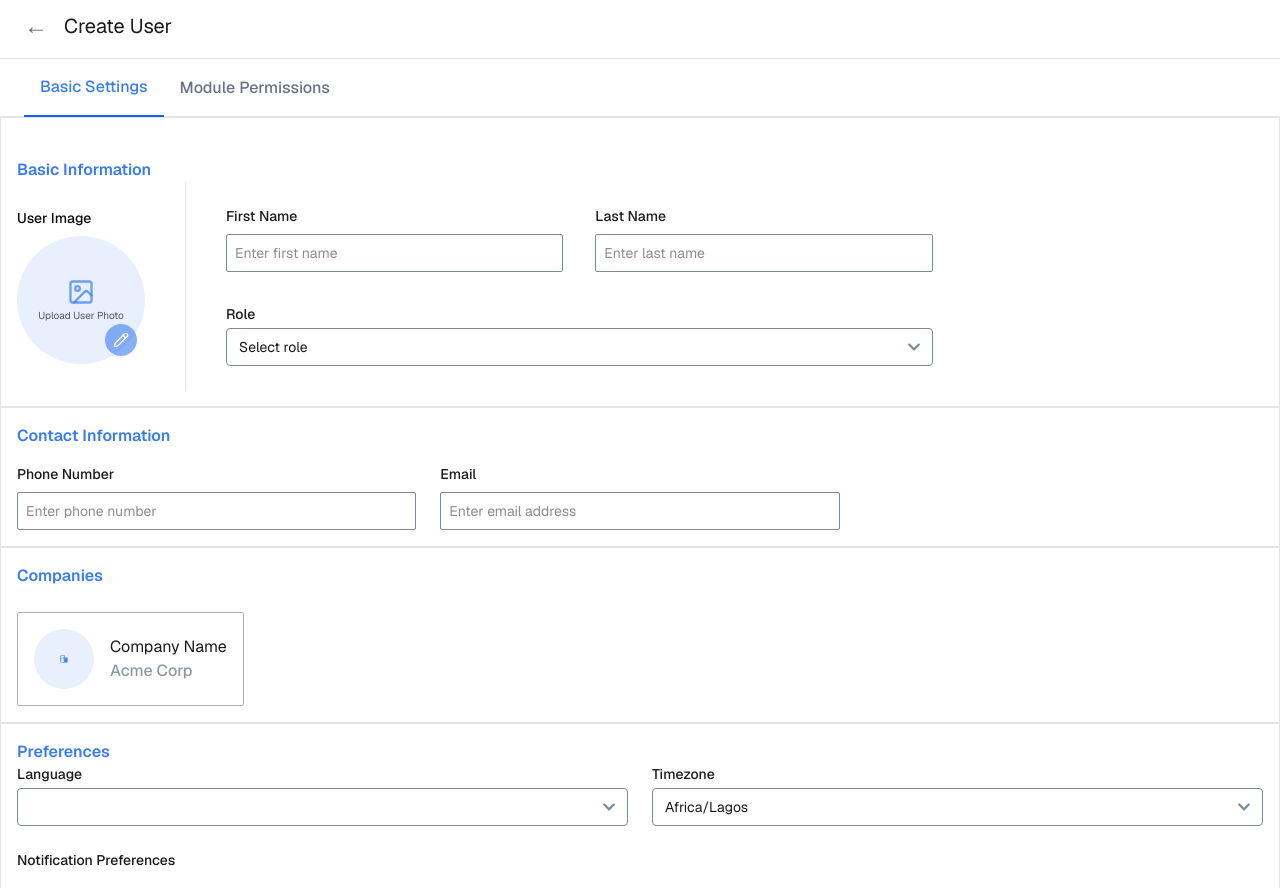
Scenario: NewUser Page Error Handling & StatusModal › shows success StatusModal on successful user creation
In the field with placeholder "Enter first name": (395, 253) 226,234 -> 563,272, type "Jane"
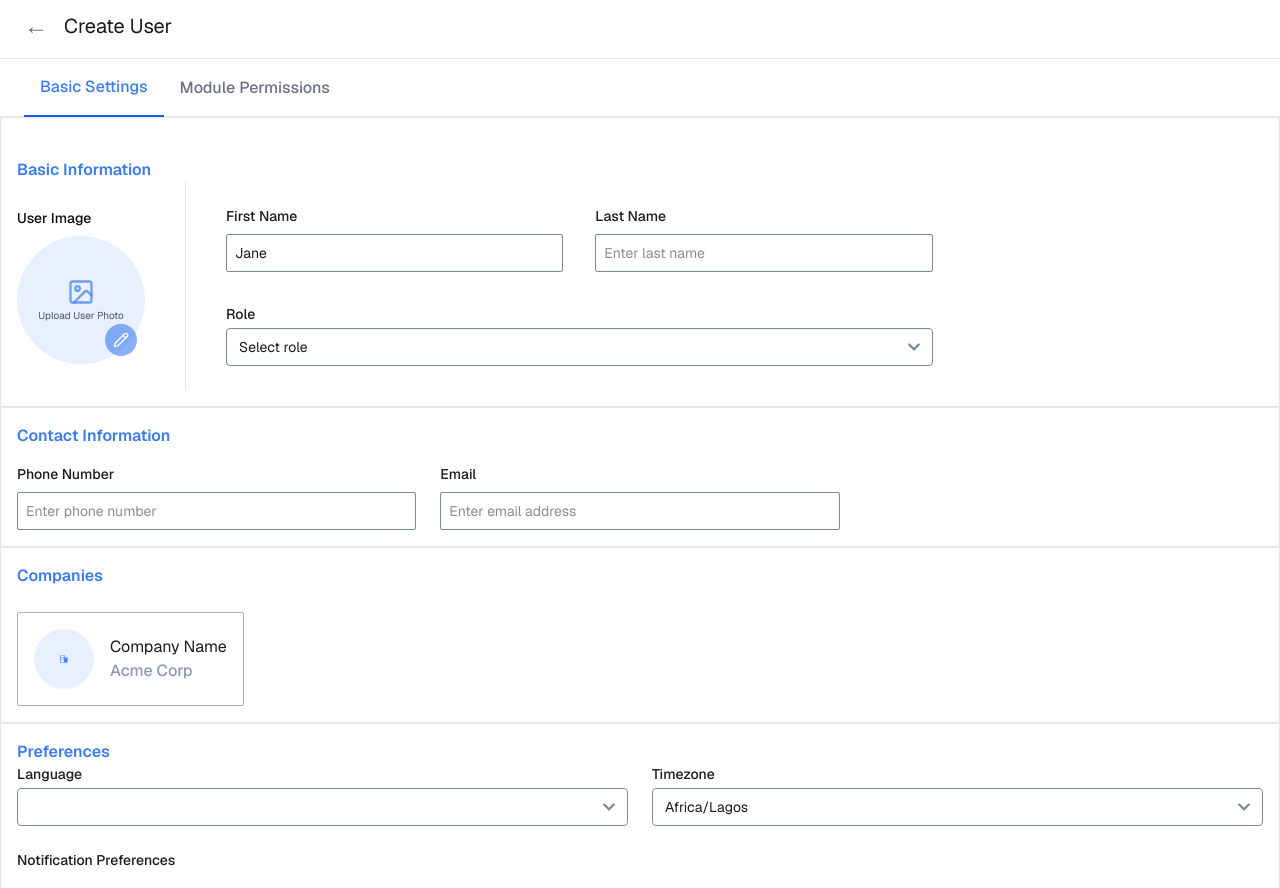
In the field with placeholder "Enter last name": (764, 253) 595,234 -> 933,272, type "Smith"
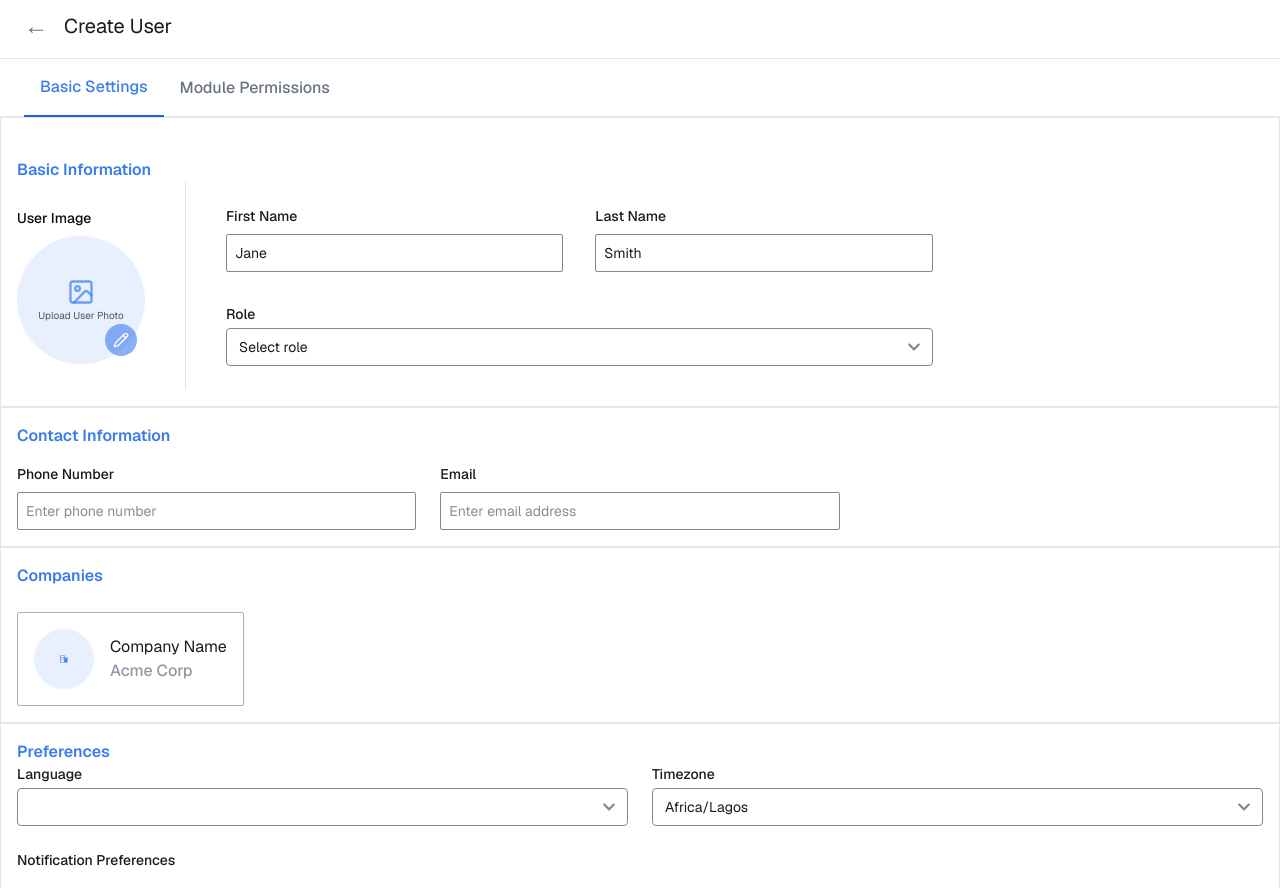
In the field with placeholder "Enter email address": (640, 511) 440,492 -> 840,530, type "jane.smith@example.com"
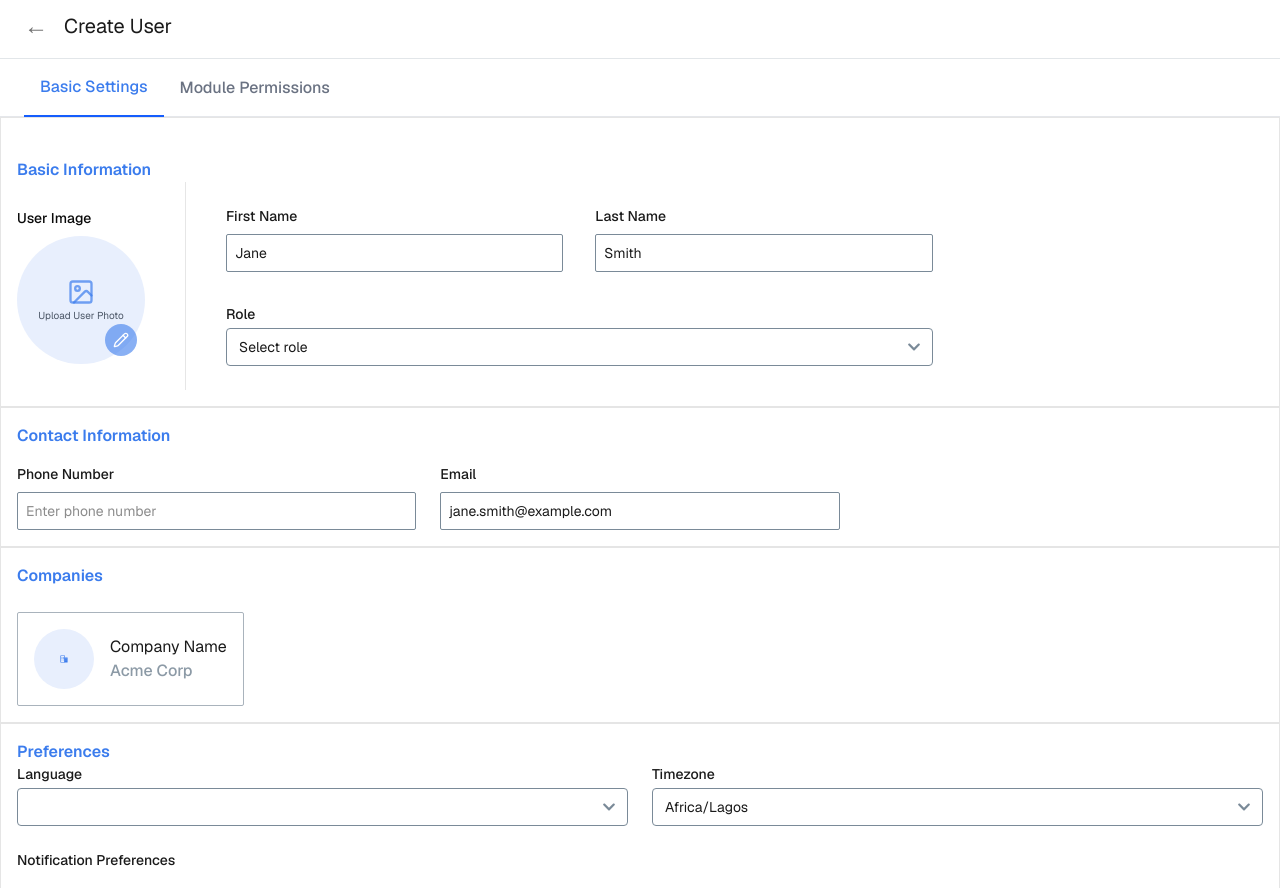
In the field with placeholder "Enter phone number": (217, 511) 17,492 -> 416,530, type "08098765432"
(page scrolled)
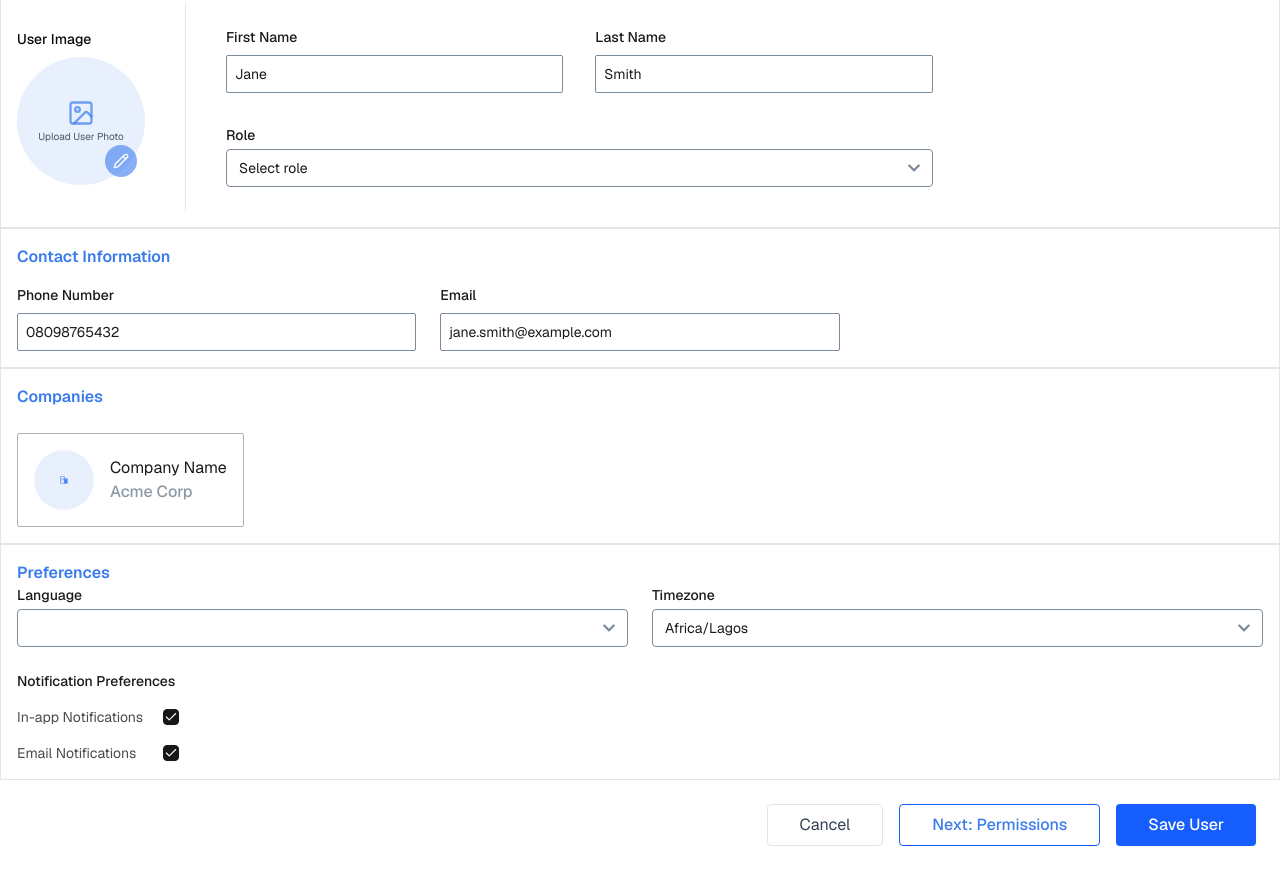
Click the button "Save User": (1186, 825) 1116,804 -> 1256,846
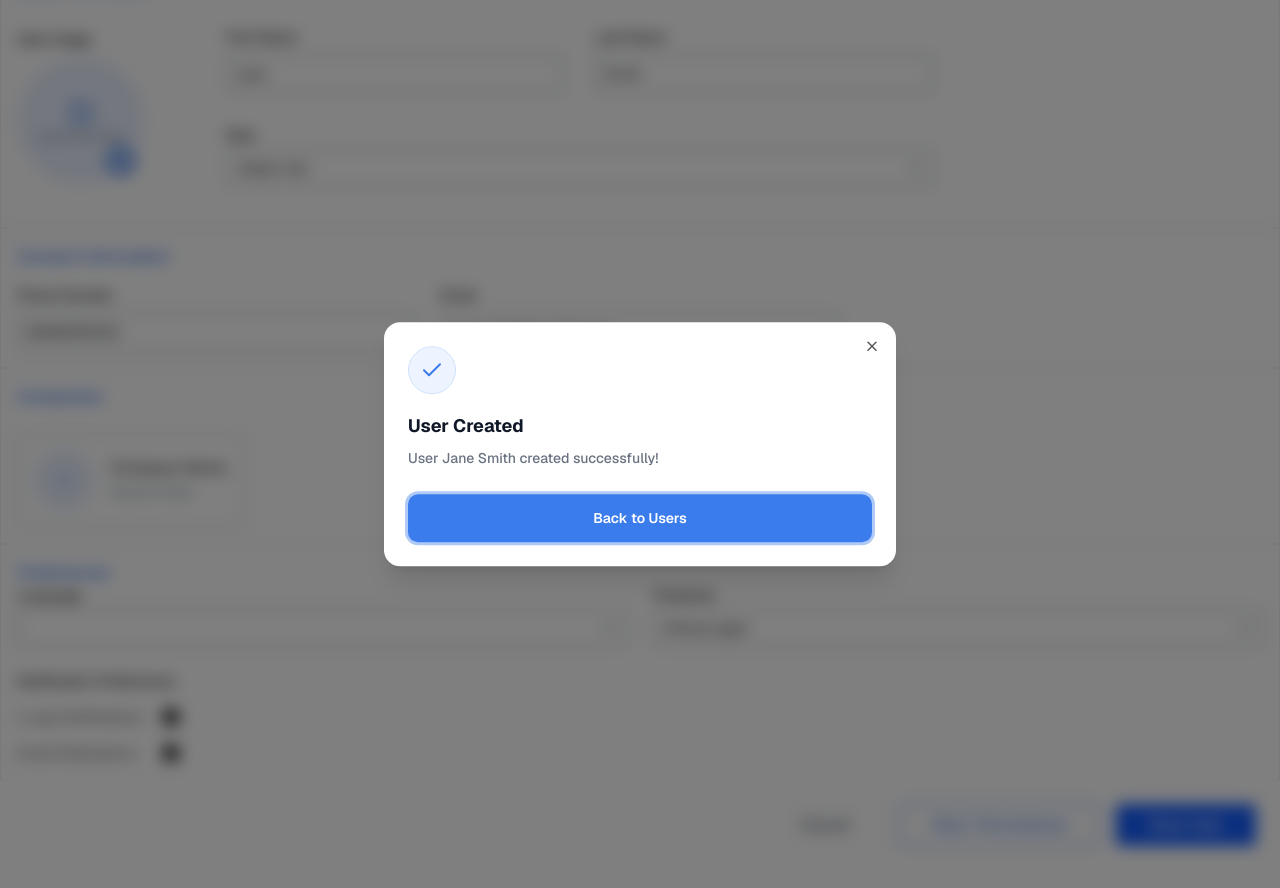
Now the heading "User Created" is shown, box 408,414 -> 524,439
Now the text "User Jane Smith created successfully!" is shown, box 408,447 -> 658,470
